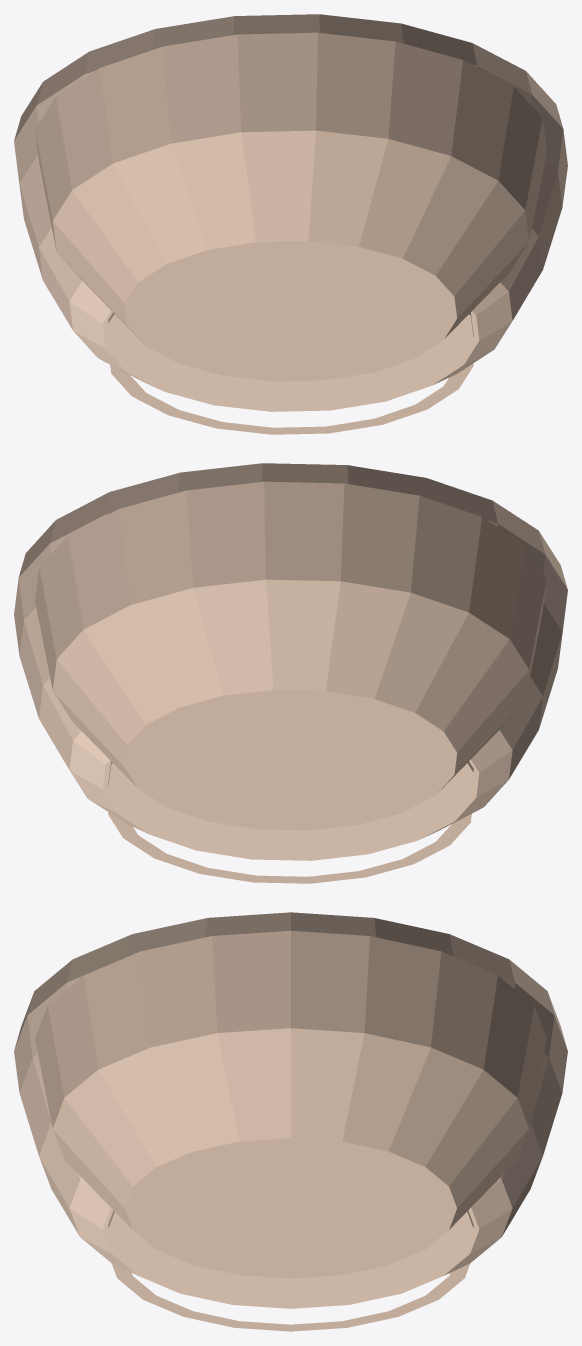
File: container_siru_open.glb
3 renders of one model, top to bottom at view 1: azimuth 30°, elevation 25°; view 2: azimuth 150°, elevation 25°; view 3: azimuth 270°, elevation 25°, orthographic.
Parts seen in each view (by area): view 1: inner, body, foot; view 2: inner, body, foot; view 3: inner, body, foot.
Boxes of the visible parts, box(x1,y1,x2,y2) form: inner: box(35, 32, 546, 381); body: box(14, 14, 567, 411); foot: box(108, 312, 473, 434); inner: box(35, 481, 546, 830); body: box(14, 463, 567, 860); foot: box(108, 761, 473, 883); inner: box(35, 930, 546, 1278); body: box(14, 912, 567, 1308); foot: box(108, 1211, 473, 1331).
Bounding box in the file's own units: 0.24 × 0.109 × 0.24.
